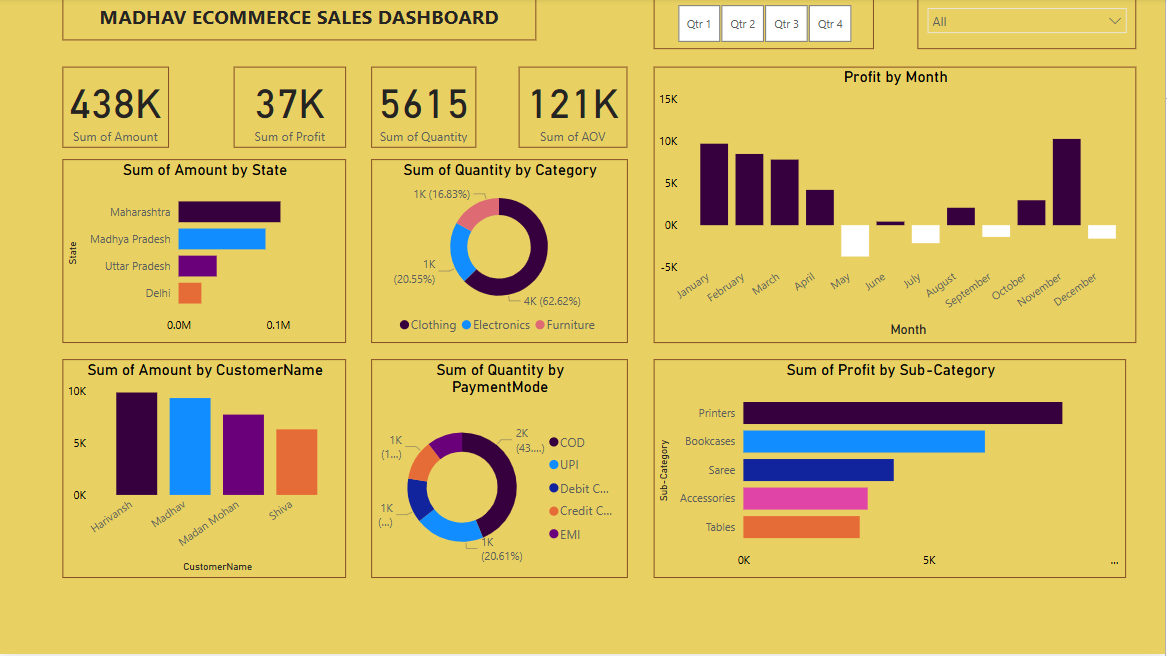

Layout of this report page (visuals, bound fields, positions):
{"tool":"powerbi","page":{"name":"Page 1","canvas":[1280,720],"ordinal":0},"visuals":[{"type":"textbox","box":[68.6,0,520.1,46.7],"z":0},{"type":"columnChart","title":"Profit by Month","fields":{"Category":["Orders.Order Date.Variation.Date Hierarchy.Month"],"Y":["Sum(Details.Profit)"]},"box":[717.7,75.5,529.7,303.3],"z":1000},{"type":"barChart","fields":{"Category":["Details.Sub-Category"],"Y":["Sum(Details.Profit)"]},"box":[717.7,396.6,518.7,240.1],"z":2000},{"type":"donutChart","fields":{"Category":["Details.Category"],"Y":["Sum(Details.Quantity)"]},"box":[407.5,177,281.3,201.7],"z":3000},{"type":"donutChart","fields":{"Category":["Details.PaymentMode"],"Y":["Sum(Details.Quantity)"]},"box":[407.5,396.6,281.3,240.1],"z":4000},{"type":"card","fields":{"Values":["Sum(Details.Amount)"]},"box":[68.6,75.5,116.6,89.2],"z":5000},{"type":"card","fields":{"Values":["Sum(Details.Profit)"]},"box":[256.6,75.5,123.5,89.2],"z":6000},{"type":"card","fields":{"Values":["Sum(Details.AOV)"]},"box":[569.5,75.5,119.4,89.2],"z":7000},{"type":"card","fields":{"Values":["Sum(Details.Quantity)"]},"box":[407.5,75.5,115.3,89.2],"z":8000},{"type":"barChart","fields":{"Category":["Orders.State"],"Y":["Sum(Details.Amount)"]},"box":[68.6,177,311.5,201.7],"z":9000},{"type":"columnChart","fields":{"Category":["Orders.CustomerName"],"Y":["Sum(Details.Amount)"]},"box":[68.6,396.6,311.5,240.1],"z":10000},{"type":"slicer","fields":{"Values":["Orders.Order Date.Variation.Date Hierarchy.Quarter"]},"box":[717.7,0,241.5,56.3],"z":11000},{"type":"slicer","fields":{"Values":["Orders.State"]},"box":[1007.2,0,240.1,56.3],"z":12000}]}

Visuals, with their boxes in screenshot pixels (x1, y1, x2, y2), scaled from the page's 1280x720 canvas onto the 1167x656 screenshot:
textbox: select_region(63, 0, 537, 43)
"Profit by Month" columnChart: select_region(654, 69, 1137, 345)
barChart - Details.Sub-Category x Sum(Details.Profit): select_region(654, 361, 1127, 580)
donutChart - Details.Category x Sum(Details.Quantity): select_region(372, 161, 628, 345)
donutChart - Details.PaymentMode x Sum(Details.Quantity): select_region(372, 361, 628, 580)
card - Sum(Details.Amount): select_region(63, 69, 169, 150)
card - Sum(Details.Profit): select_region(234, 69, 347, 150)
card - Sum(Details.AOV): select_region(519, 69, 628, 150)
card - Sum(Details.Quantity): select_region(372, 69, 477, 150)
barChart - Orders.State x Sum(Details.Amount): select_region(63, 161, 347, 345)
columnChart - Orders.CustomerName x Sum(Details.Amount): select_region(63, 361, 347, 580)
slicer - Orders.Order Date.Variation.Date Hierarchy.Quarter: select_region(654, 0, 875, 51)
slicer - Orders.State: select_region(918, 0, 1137, 51)
